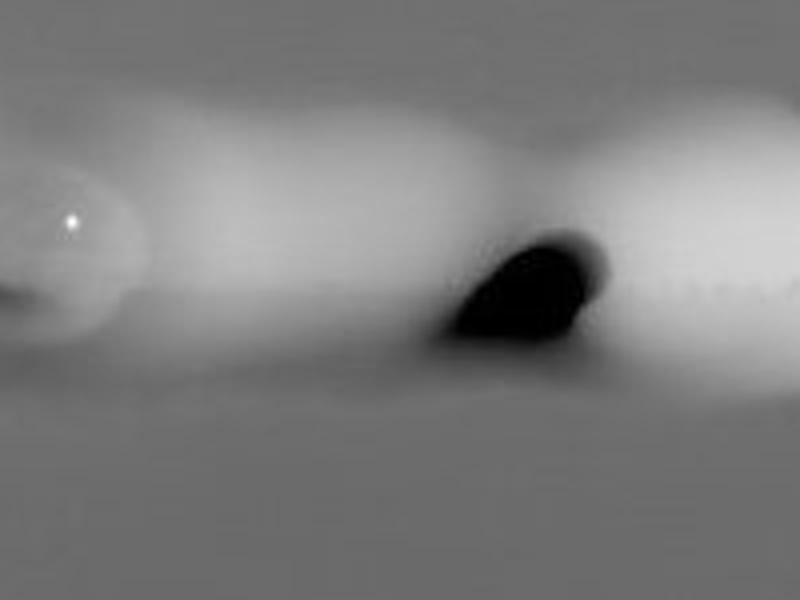defect: (444, 244, 593, 345)
